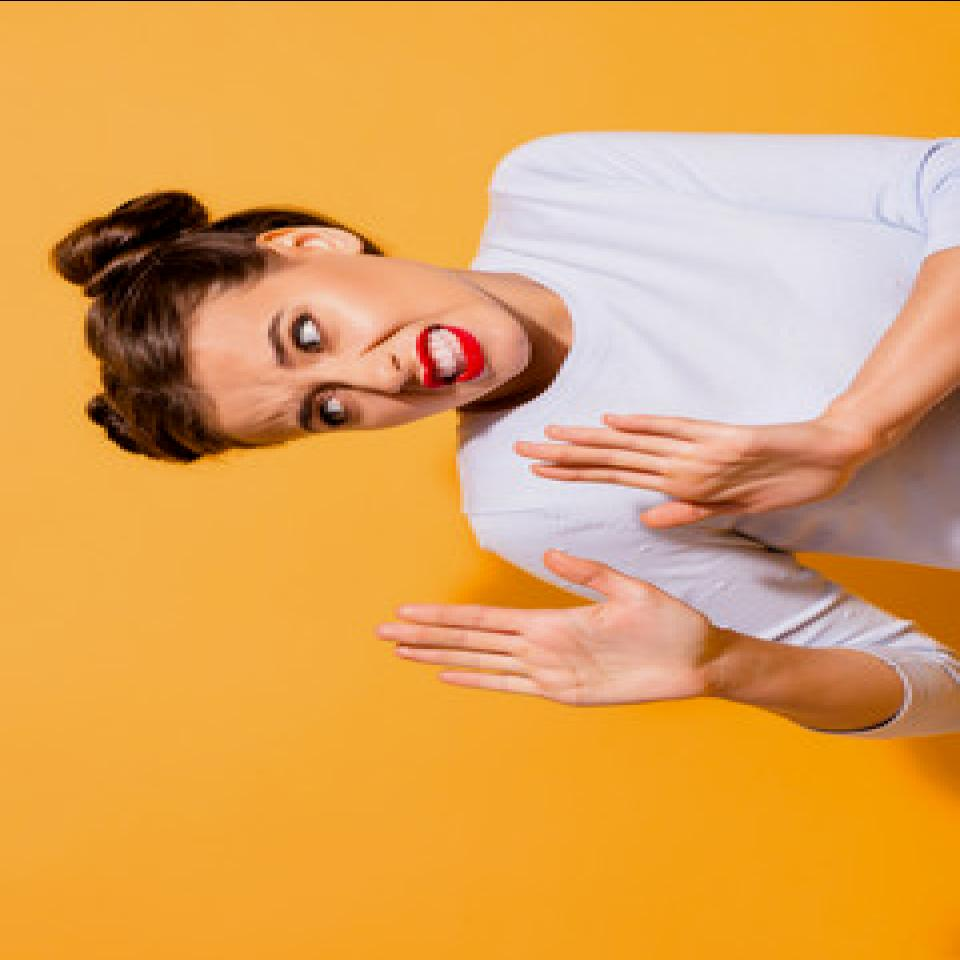Disgust: (206, 262, 532, 438)
